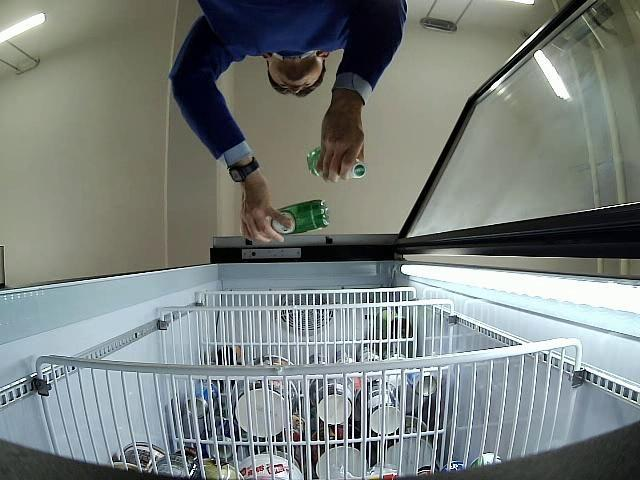18_trevi: (268, 198, 332, 237), (306, 149, 365, 178)
